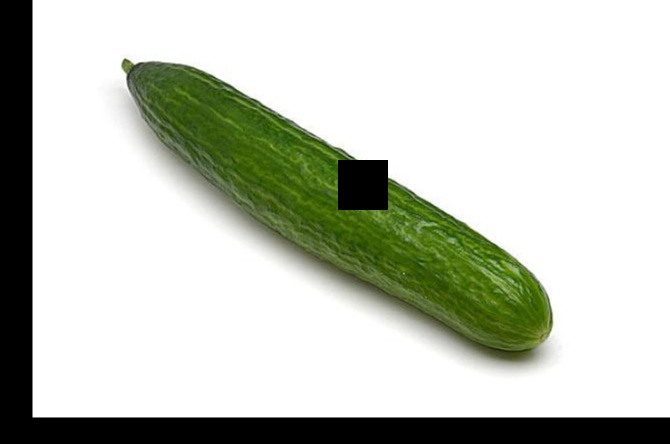cucumber: (118, 54, 550, 348)
